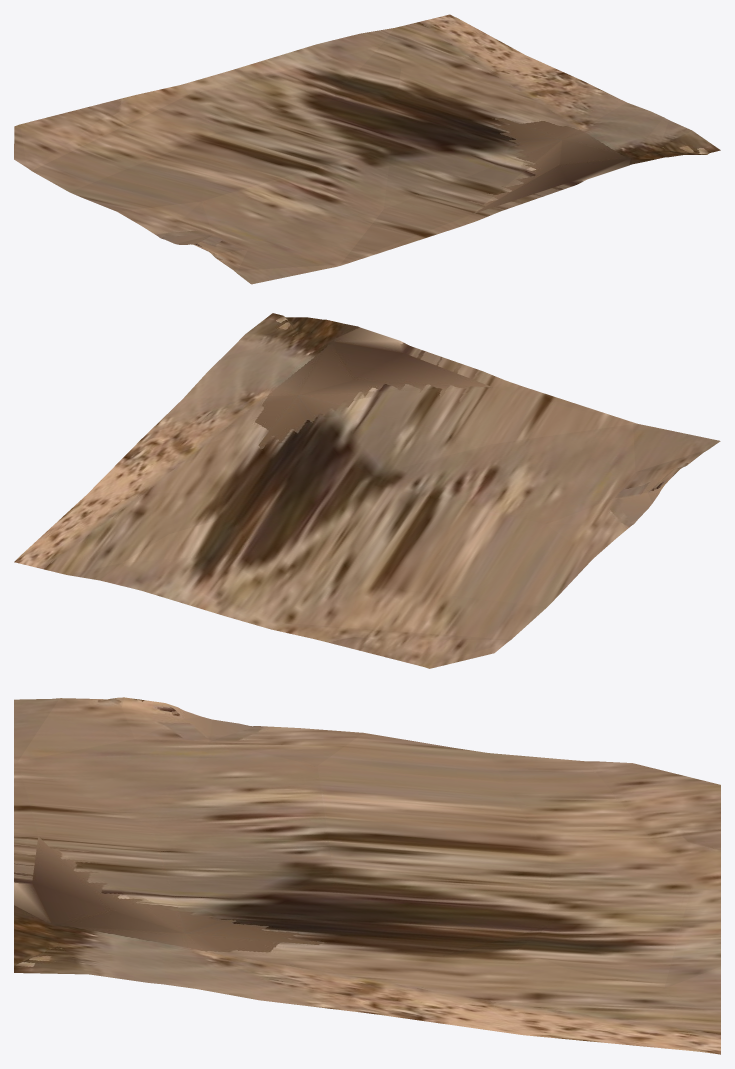
3 renders of one model, top to bottom at view 1: azimuth 30°, elevation 25°; view 2: azimuth 150°, elevation 25°; view 3: azimuth 270°, elevation 25°, orthographic. The views are drawn at different scales.
Bounding box in the file's own units: 1.04 × 0.1613 × 1.04.
Materials: 3 (3 with a texture image).
